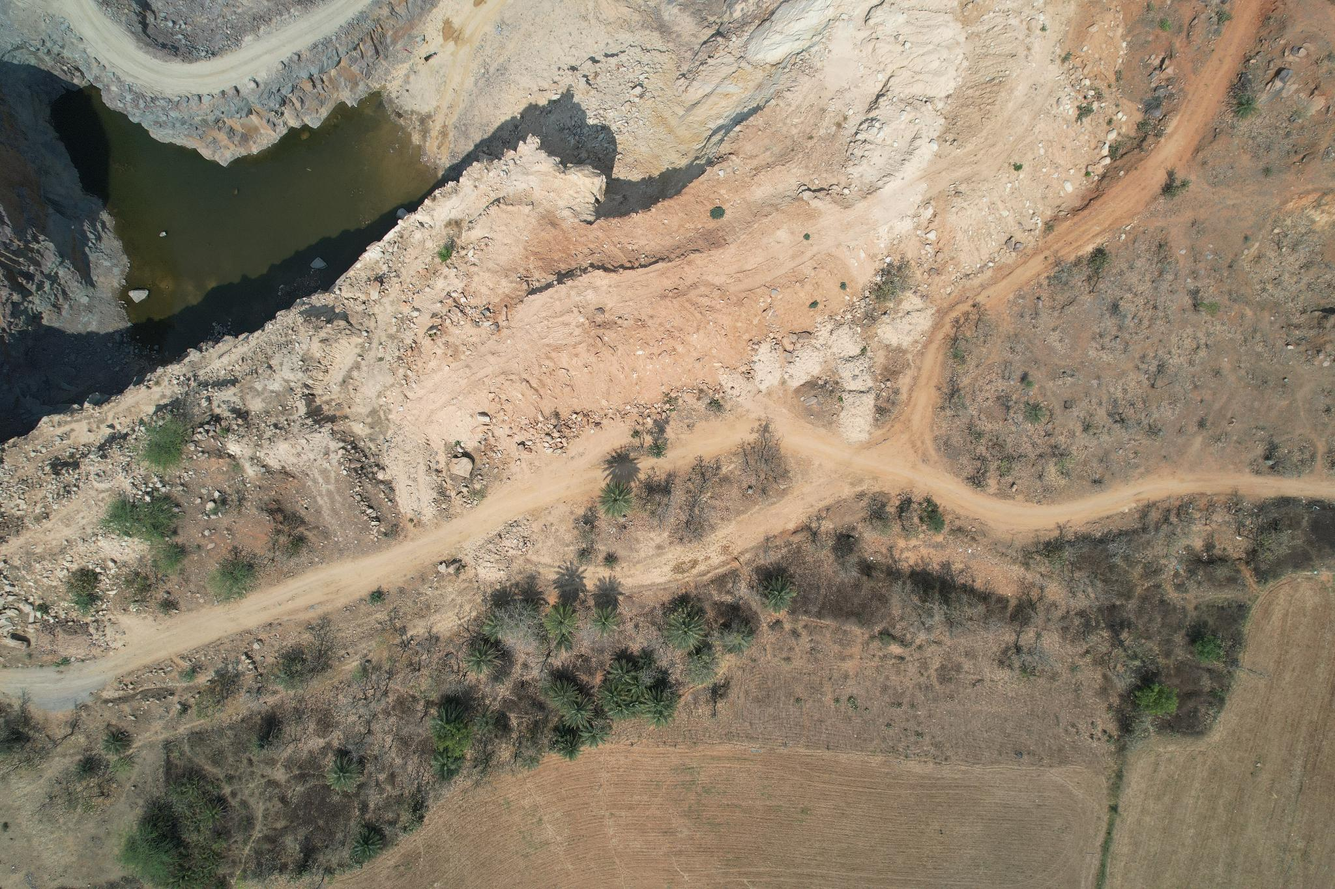benches: (613, 0, 1335, 587), (0, 395, 767, 712), (29, 0, 371, 97)
